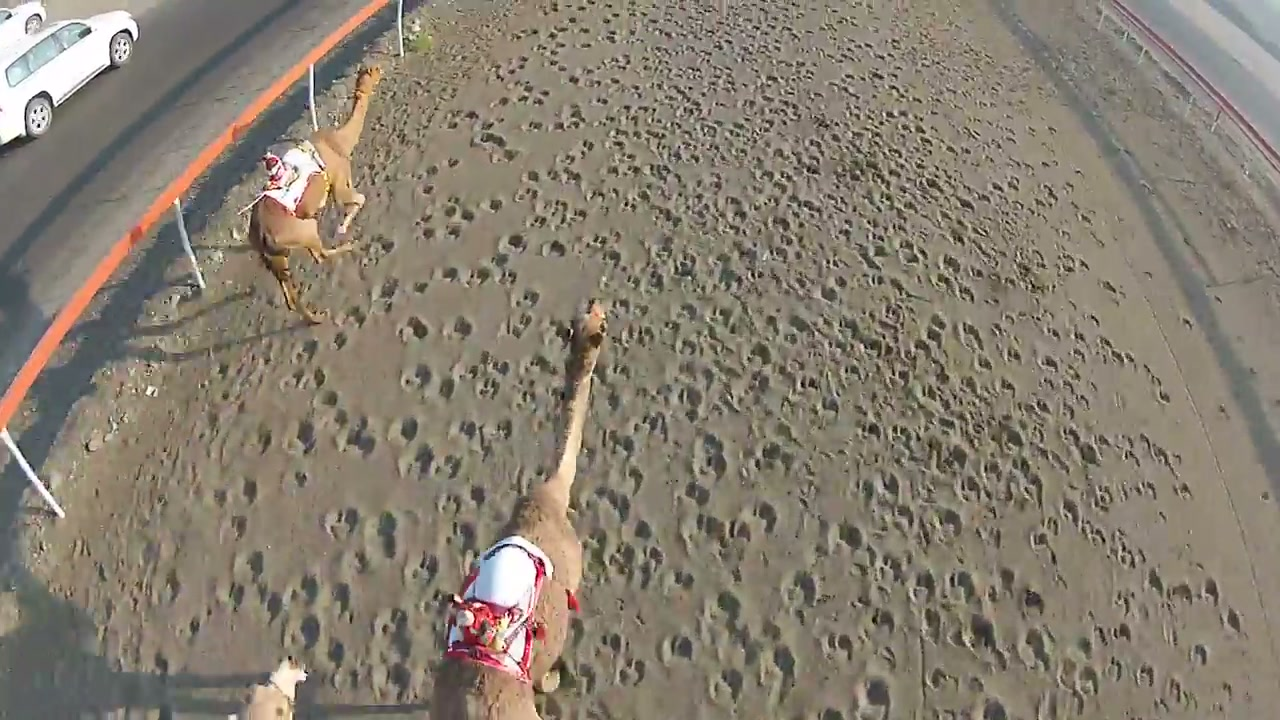animal_footprint: (33, 0, 1273, 719)
